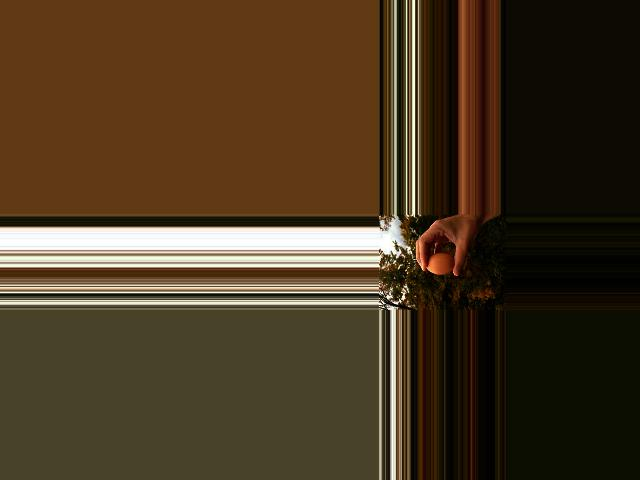egg: (425, 253, 454, 274)
